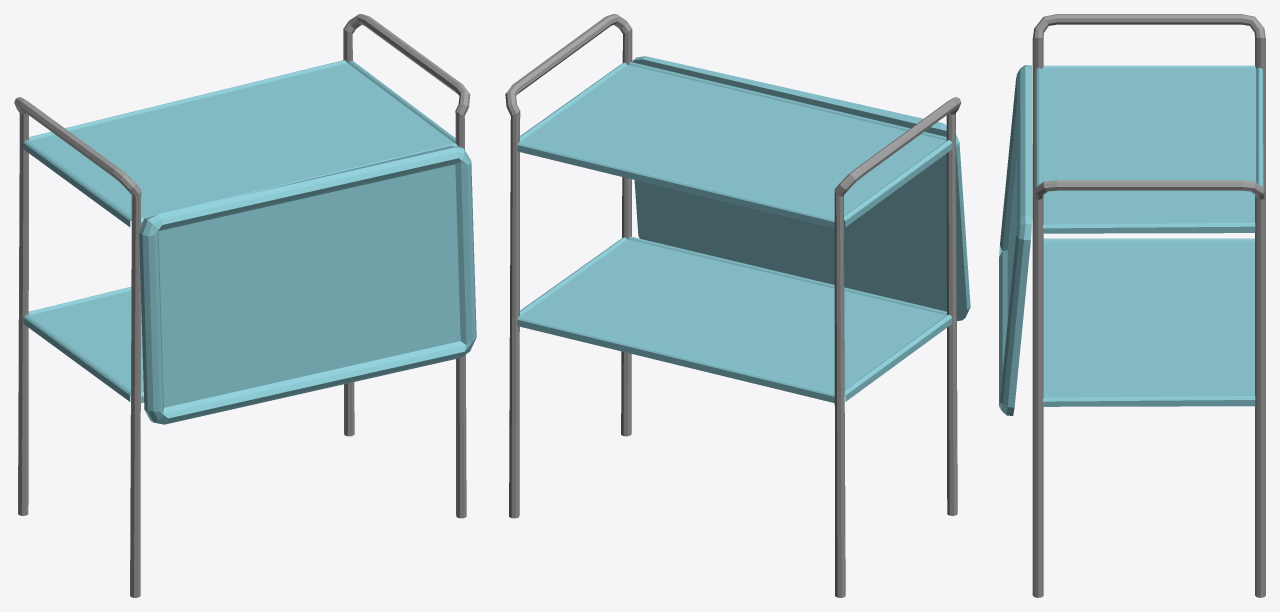
The model's file is MesaEscriba.fbx.
3 renders of one model, left to right at view 1: azimuth 30°, elevation 25°; view 2: azimuth 150°, elevation 25°; view 3: azimuth 270°, elevation 25°, orthographic.
Visible parts, largest first — view 1: Box001; view 2: Box001; view 3: Box001.
Part boxes in pixels (x1,y1,x2,y2): Box001: [14, 14, 476, 597]; Box001: [505, 14, 970, 597]; Box001: [999, 14, 1265, 597].
Bounding box in the file's own units: 76.03 × 87.06 × 50.23.
